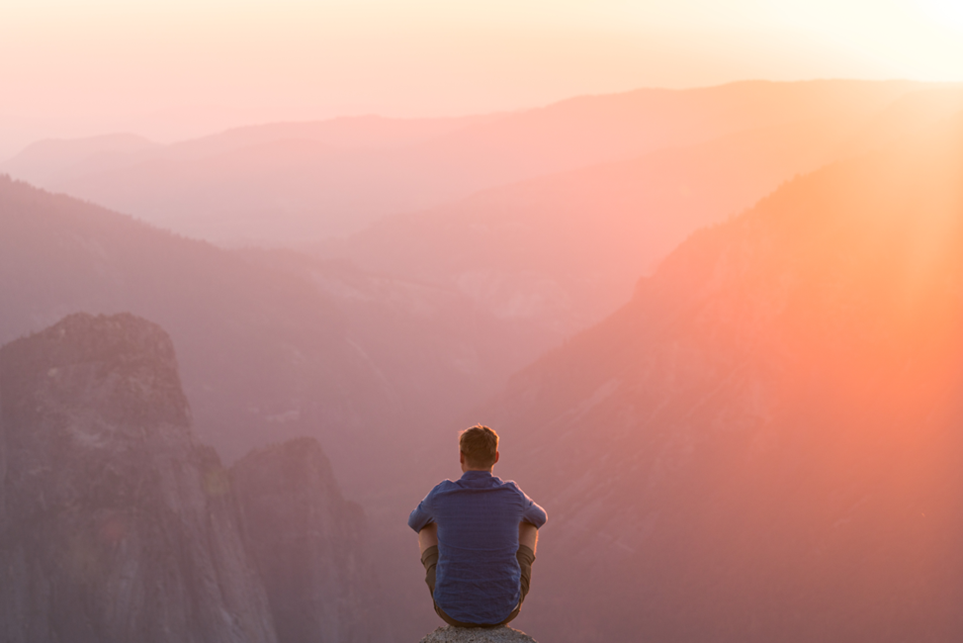person: (406, 425, 550, 630)
